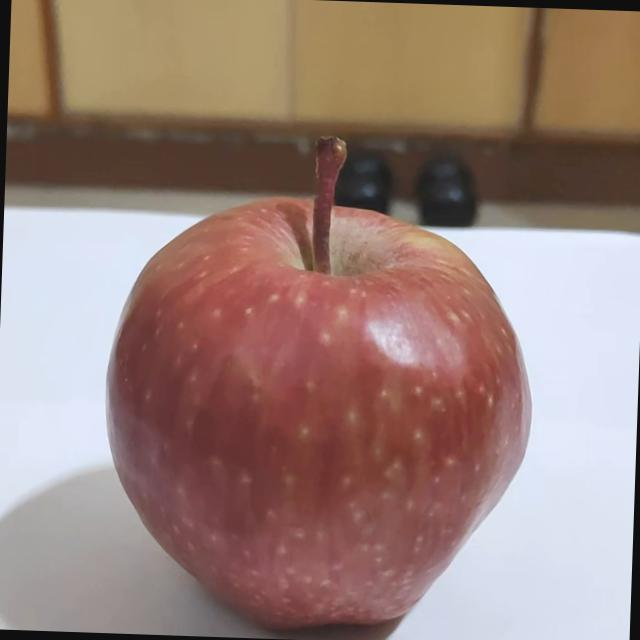apple: (12, 0, 620, 638)
